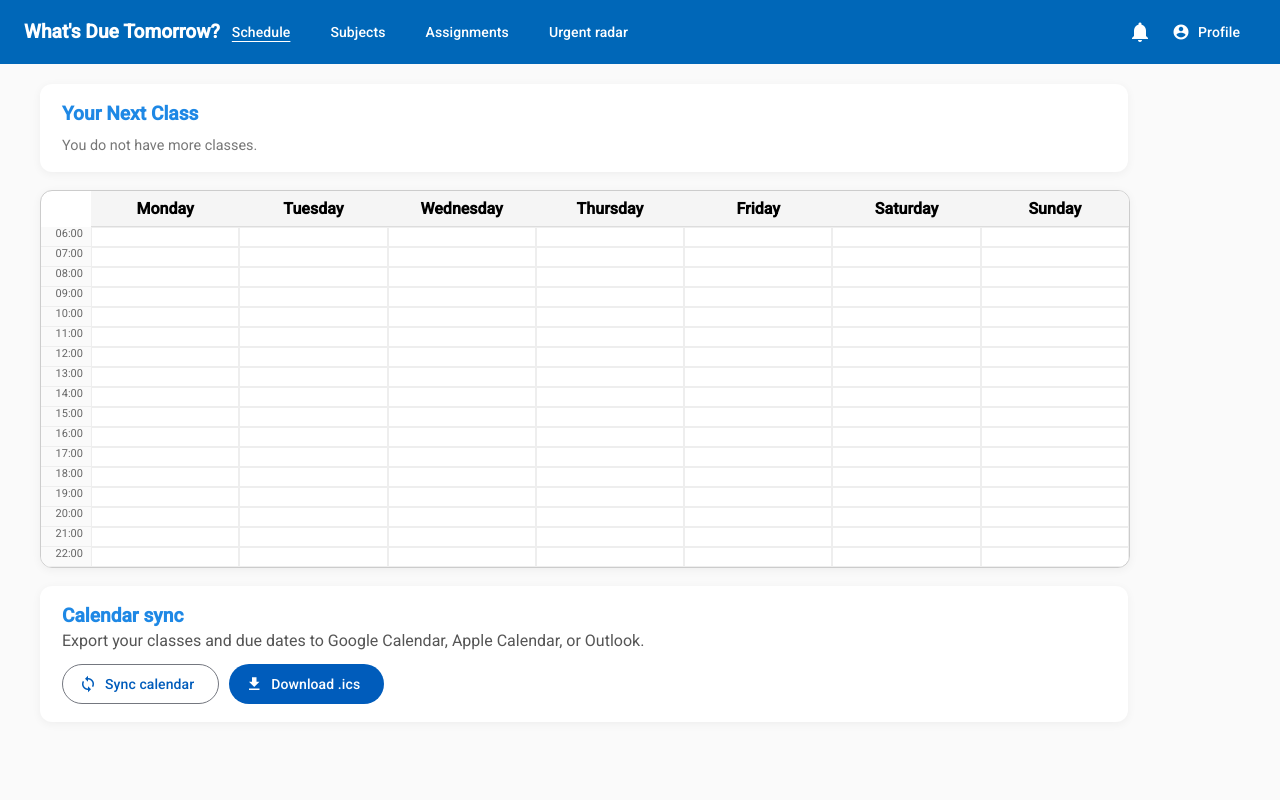
F23: Sincronización y Exportación de Calendario .ics (Frontend E2E, UI & a11y) › E2: Debería copiar el enlace al portapapeles y actualizar el estado visual
Step 1. Click the button "Sync calendar" → (141, 684), box [62,664,219,704]
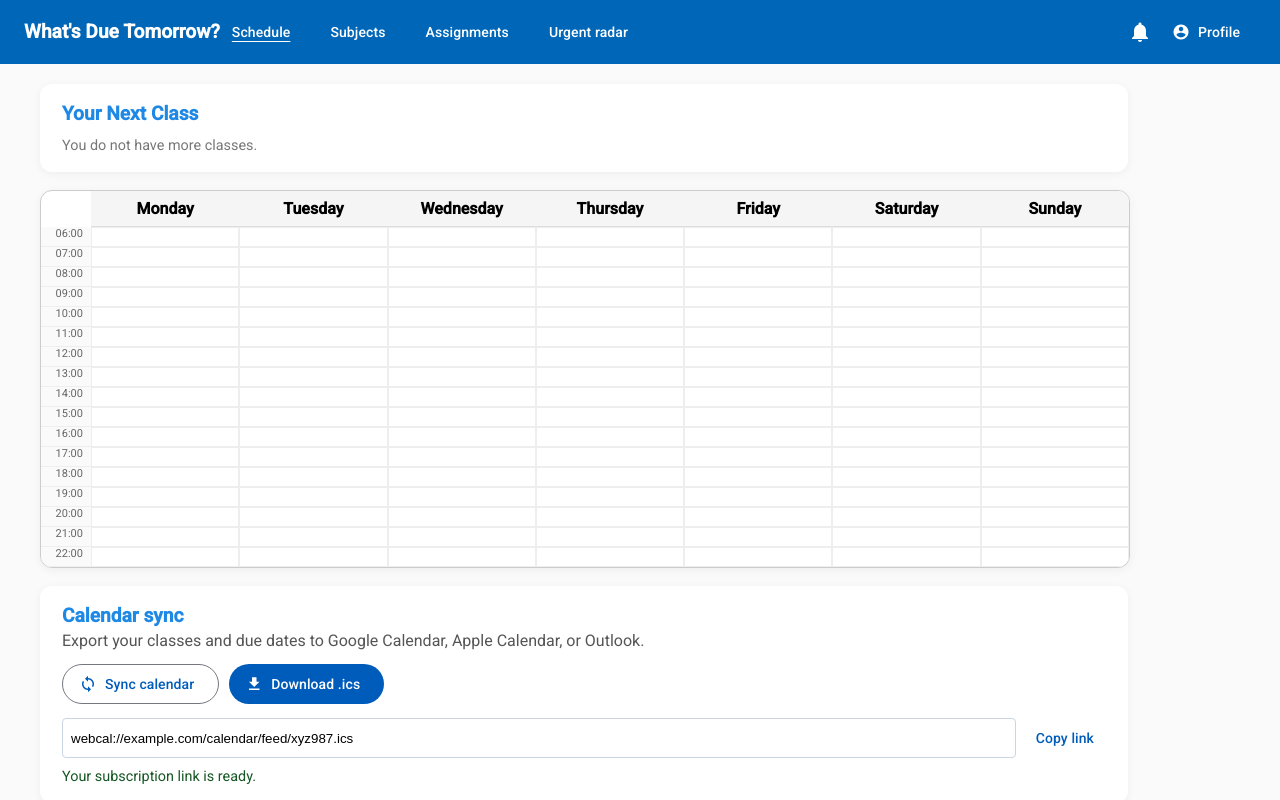
Step 2. Click the button "Copy link" → (1065, 738), box [1024,718,1106,758]
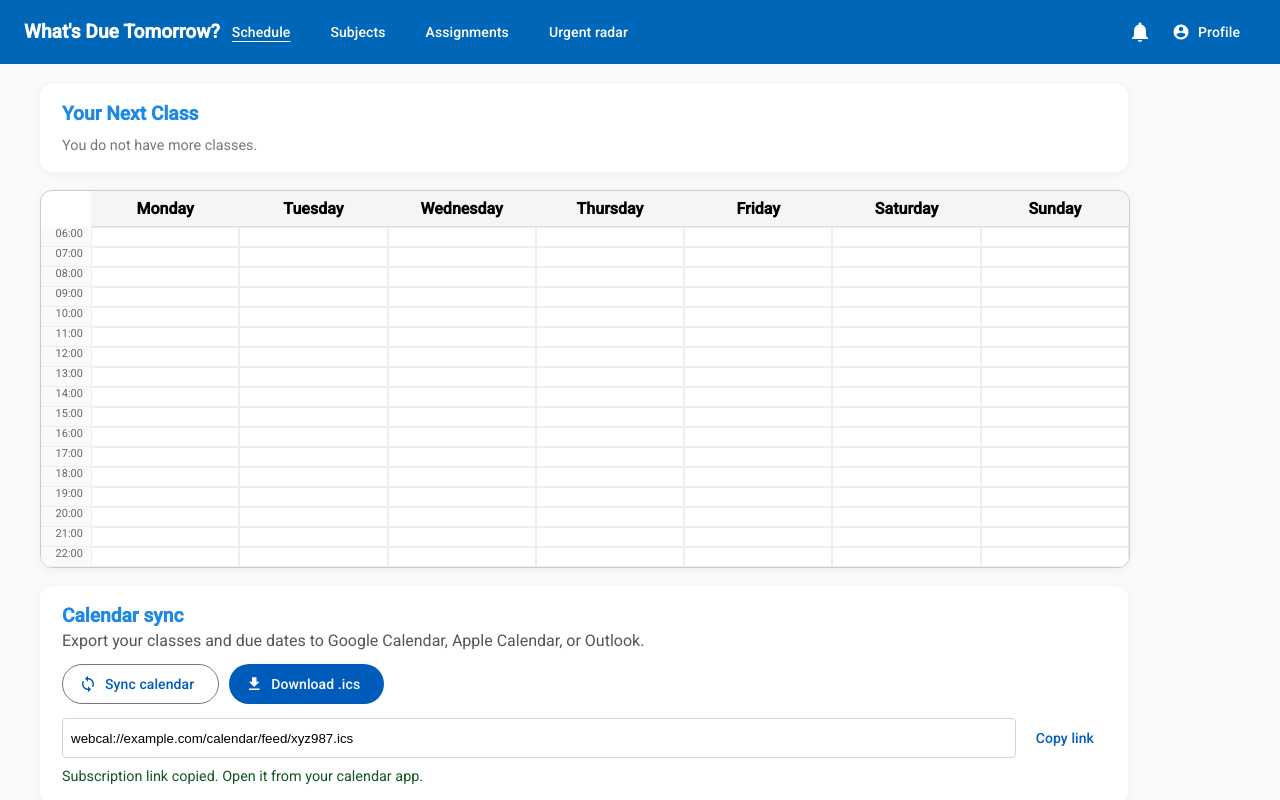
Expected: the message with class "calendar-message" shows "Subscription link copied. Open it from your calendar app", [62,768,423,785]
